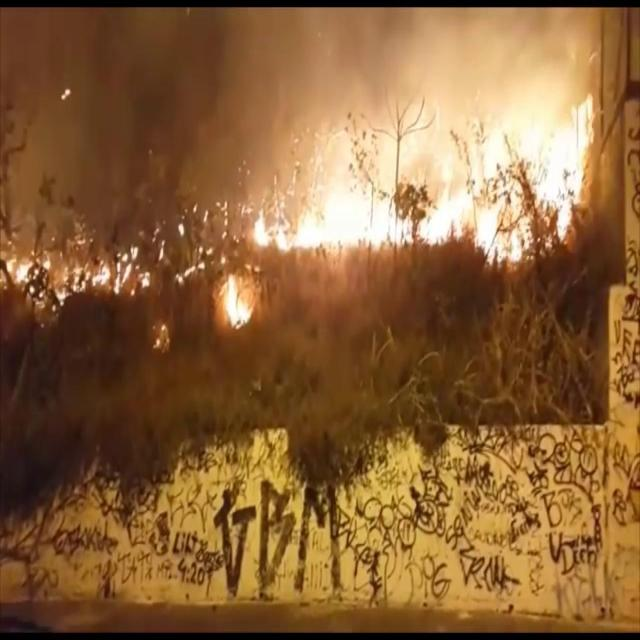Fire: (252, 95, 593, 261), (1, 244, 151, 306), (218, 274, 254, 330)
